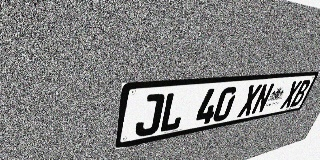0: (211, 86, 239, 123)
4: (194, 88, 222, 126)
B: (290, 80, 312, 107)
J: (134, 93, 165, 138)
L: (158, 91, 188, 133)
N: (250, 83, 275, 115)
X: (237, 84, 263, 118), (280, 80, 303, 109)
